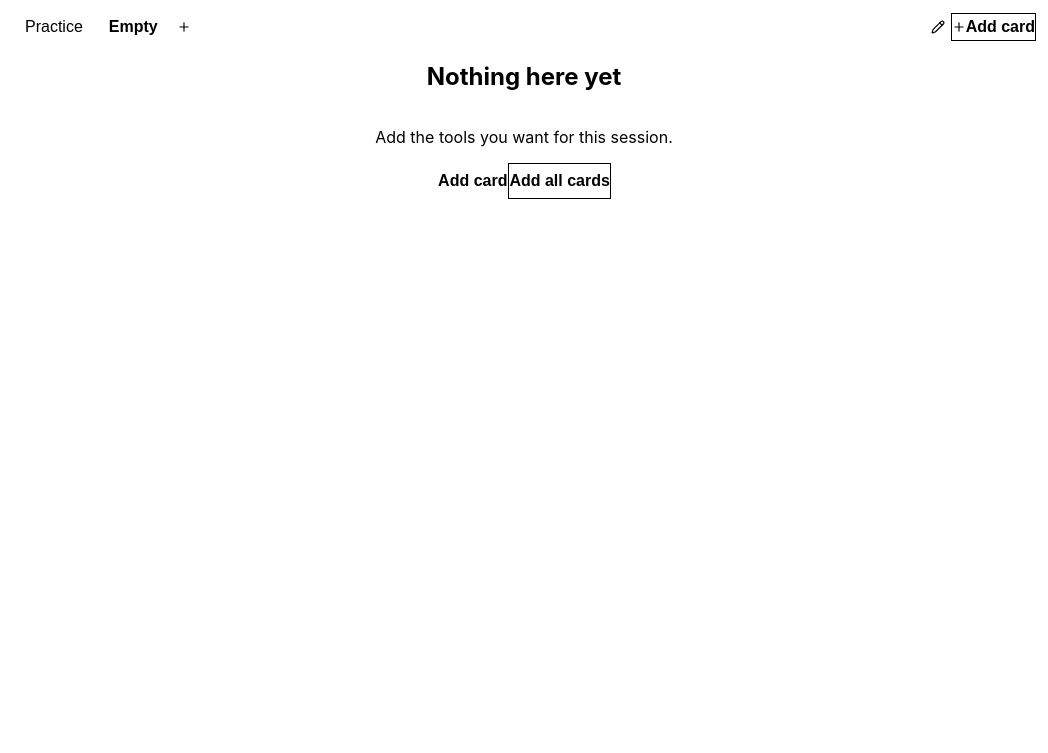
Test: "Add all cards" fills an empty workspace with every card
This screenshot has width=1048, height=753.
Click the button "Add all cards". click: (560, 181)
box: [508, 163, 611, 199]
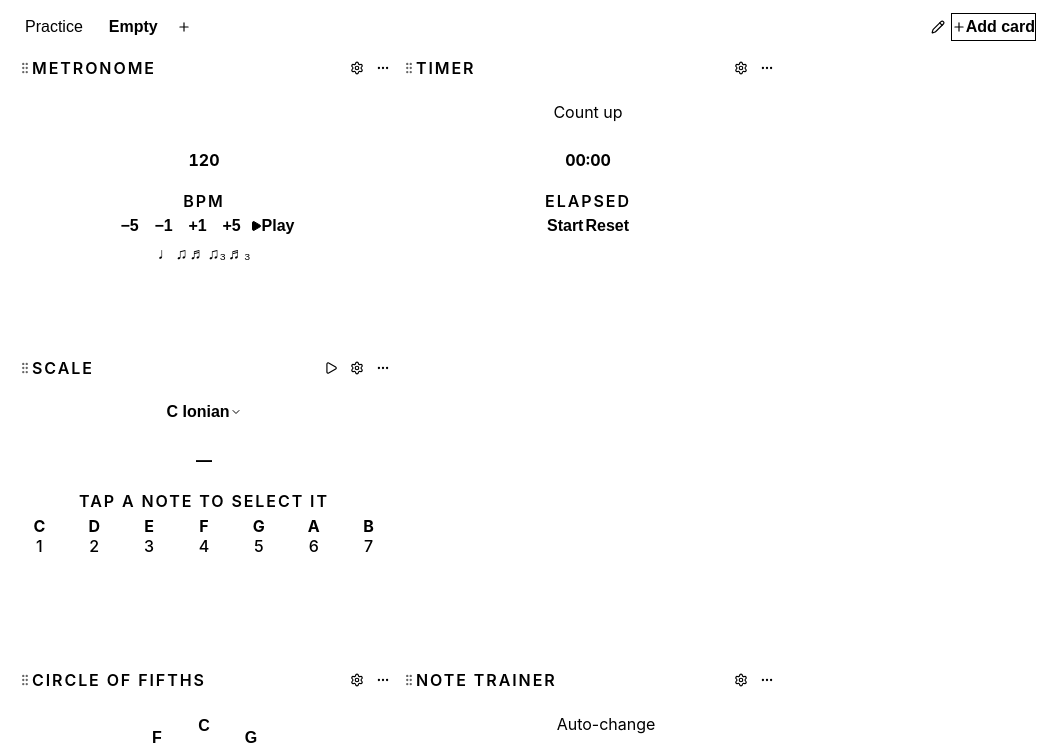
Now the element "Metronome" is shown, box [12, 42, 396, 342]
